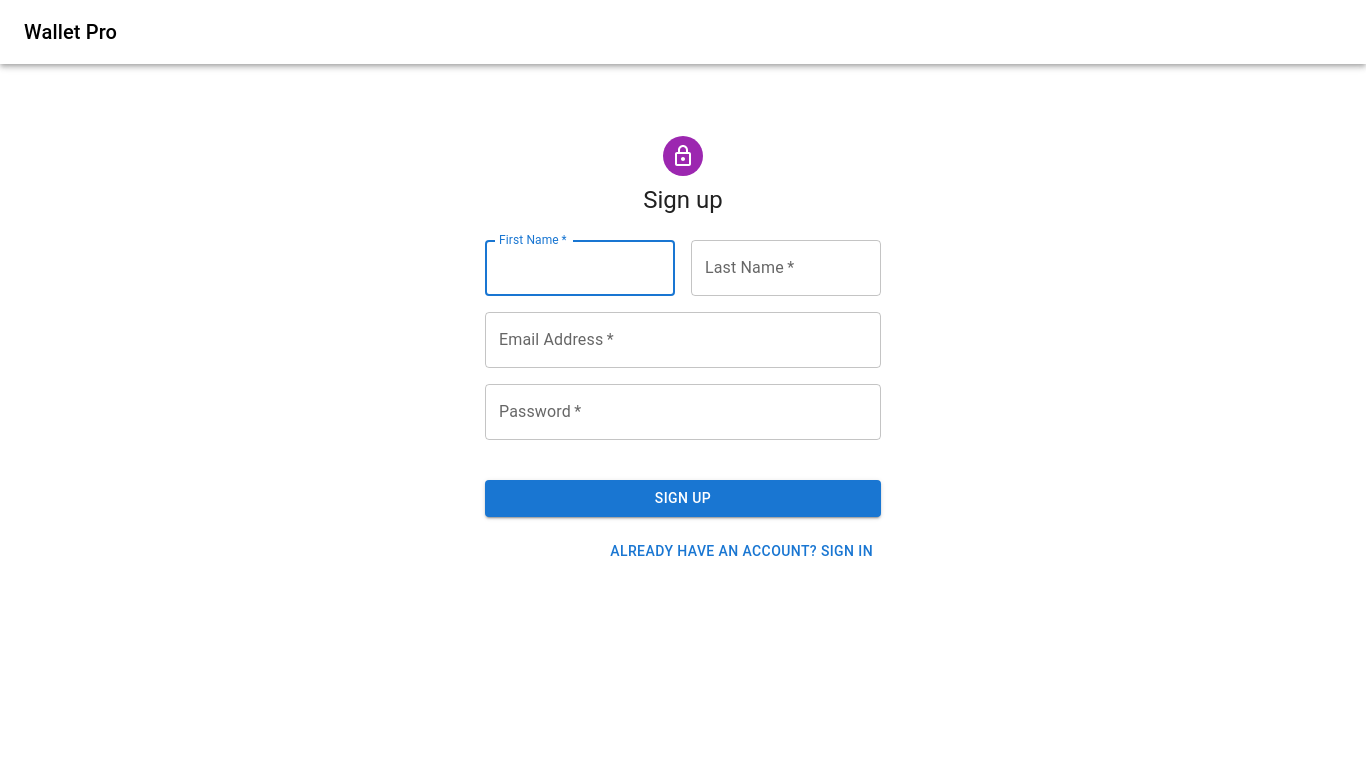
UserRegistrationForm › displays errors for invalid form data
Step 1. Click the button "Sign Up" → (683, 498), box [485,480,881,516]
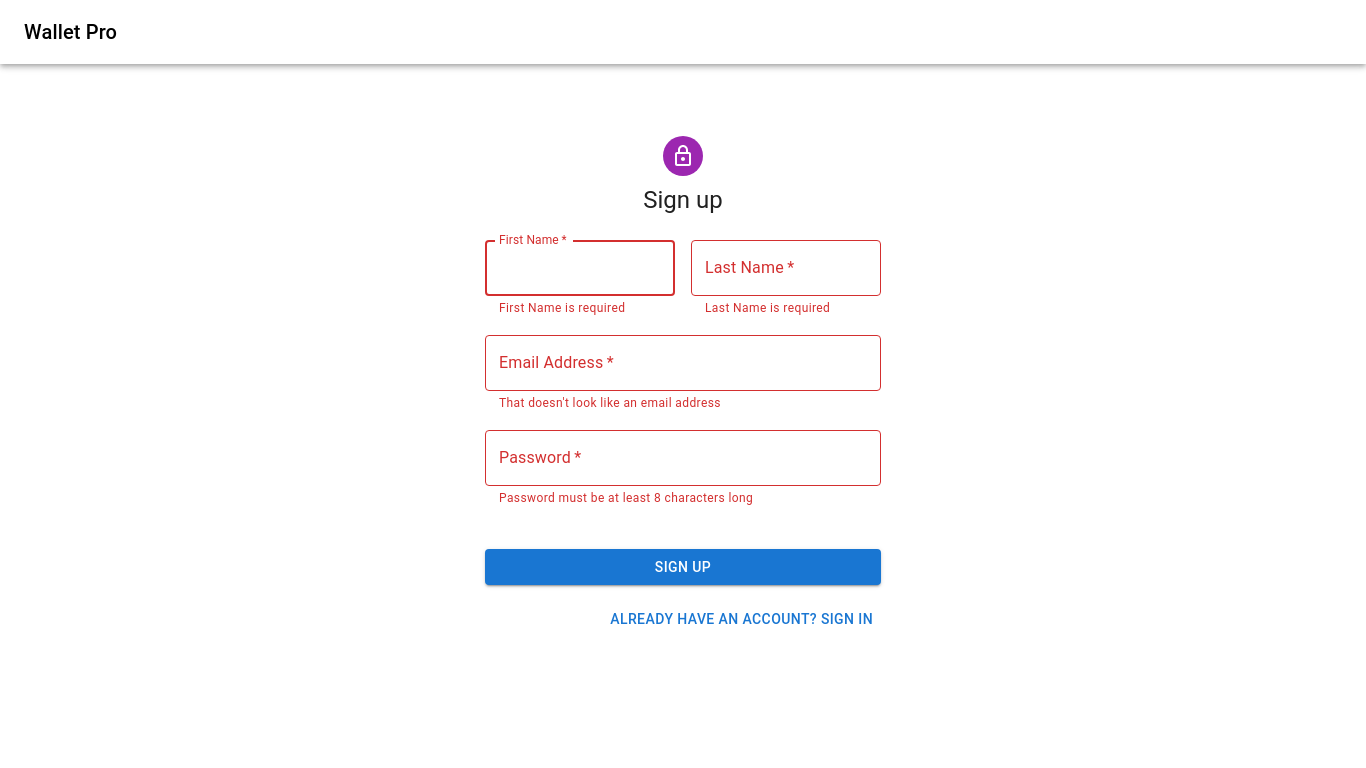
Expected: the text "First Name is required" is shown, [499,301,625,315]
Expected: the text "Last Name is required" is shown, [705,301,830,315]
Expected: the text "That doesn't look like an email address" is shown, [499,396,721,410]
